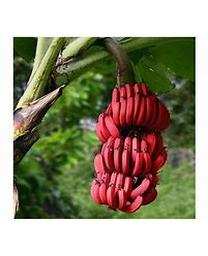banana: (95, 82, 172, 214)
